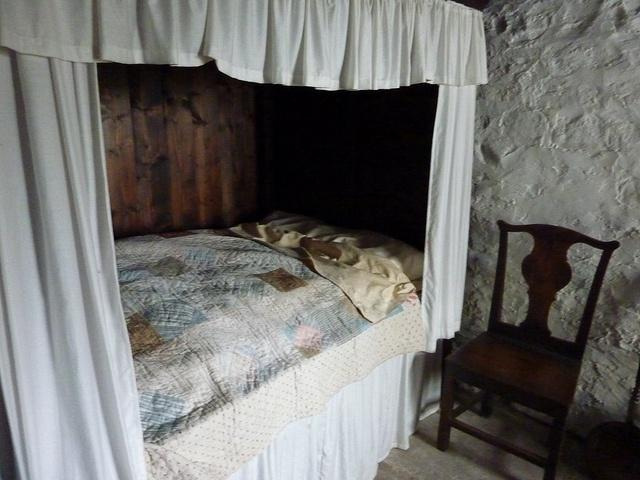Kursi: (436, 217, 622, 479)
